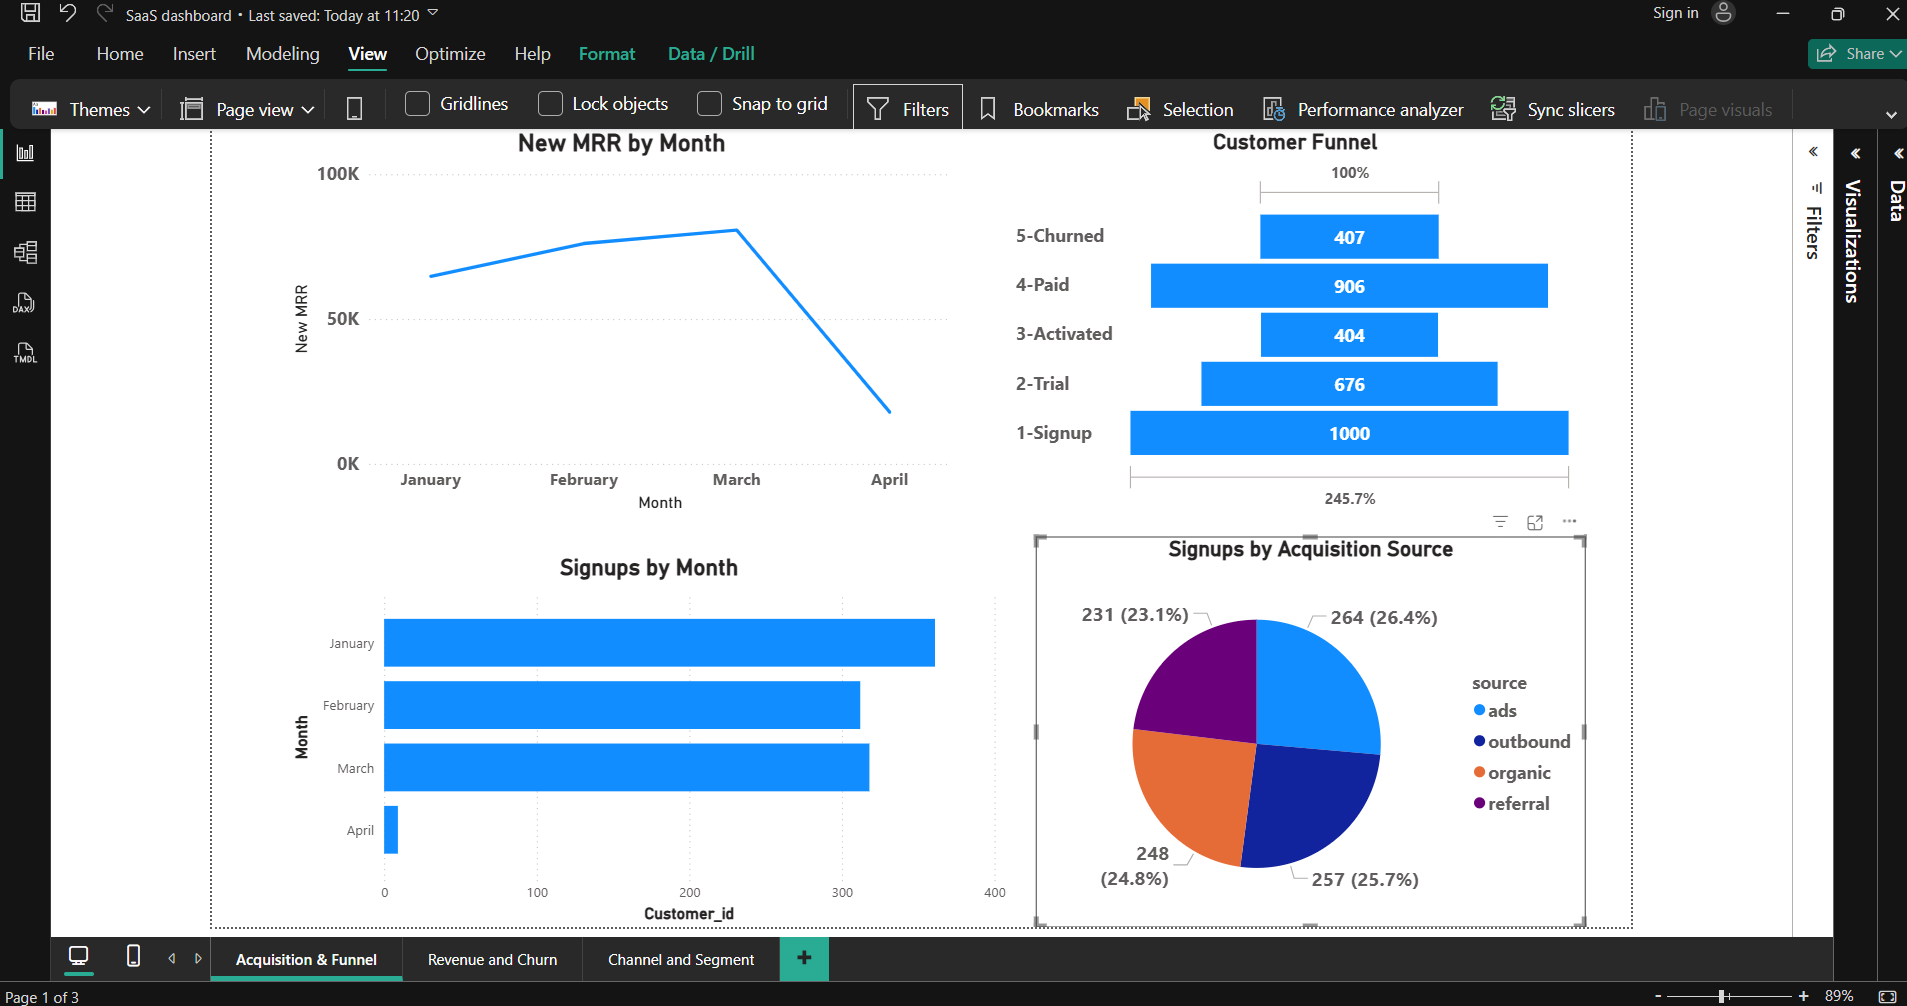

The page's visual inventory and layout, read from the dashboard file:
{"tool":"powerbi","page":{"name":"Acquisition & Funnel","canvas":[1280,720],"ordinal":0},"visuals":[{"type":"lineChart","title":"New MRR by Month","fields":{"Y":["Sum(saasgtm cleaned_subscriptions.monthly_price)"],"Category":["saasgtm cleaned_subscriptions.start_date.Variation.Date Hierarchy.Month"]},"box":[67.2,0,603.8,349.9],"z":0},{"type":"funnel","title":"Customer Funnel","fields":{"Category":["Funnel.Stage"],"Y":["Sum(Funnel.Customers)"]},"box":[720.4,0,513.2,349.9],"z":1000},{"type":"clusteredBarChart","title":"Signups by Month","fields":{"Category":["saasgtm cleaned_events.event_date.Variation.Date Hierarchy.Month"],"Y":["CountNonNull(saasgtm cleaned_events.customer_id)"]},"box":[67.2,382.8,653.2,337.6],"z":2000},{"type":"pieChart","title":"Signups by Acquisition Source","fields":{"Category":["saasgtm cleaned_events.source"],"Y":["CountNonNull(saasgtm cleaned_events.customer_id)"]},"box":[742.4,367.8,496.7,352.7],"z":3000}]}

Visuals, with their boxes on the page's 1280x720 design canvas (x1, y1, x2, y2). These are canvas units, not pixel positions in the 1907x1006 screenshot, which may show the page scaled, cropped or inside an application window:
"New MRR by Month" lineChart: [left=67, top=0, right=671, bottom=350]
"Customer Funnel" funnel: [left=720, top=0, right=1234, bottom=350]
"Signups by Month" clusteredBarChart: [left=67, top=383, right=720, bottom=720]
"Signups by Acquisition Source" pieChart: [left=742, top=368, right=1239, bottom=720]
